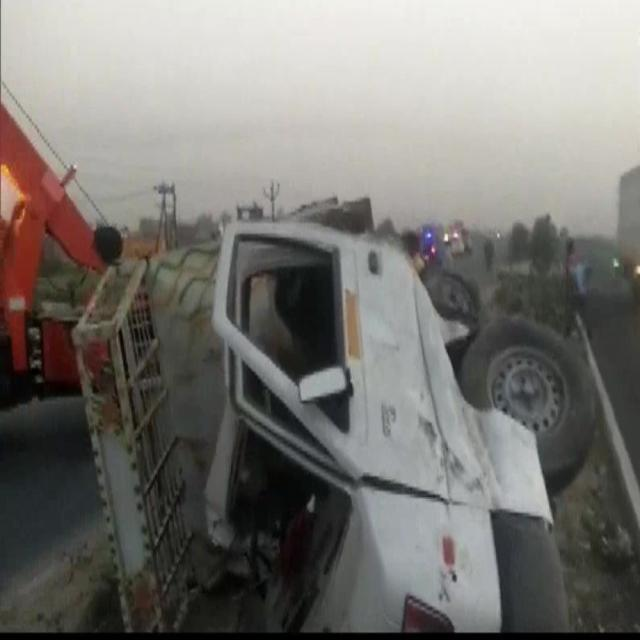accident: (76, 217, 604, 640)
